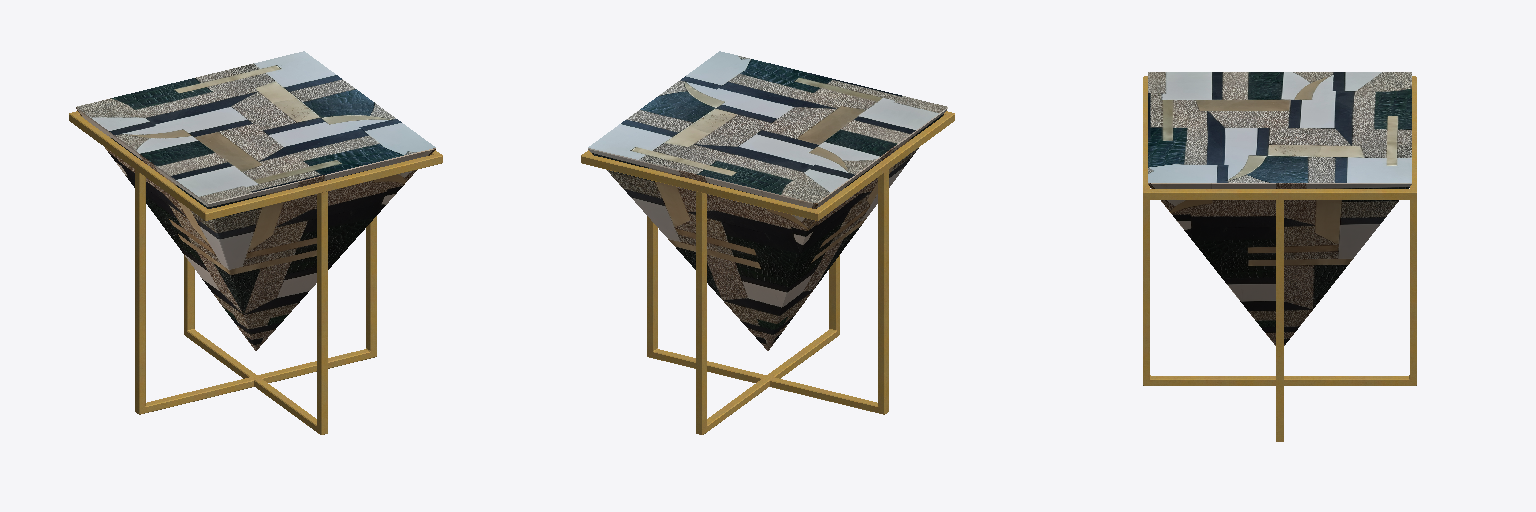
3 views of the same model, side by side, from view 1: azimuth 30°, elevation 25°; view 2: azimuth 150°, elevation 25°; view 3: azimuth 270°, elevation 25° (orthographic).
Visible parts, largest first — view 1: Pyramid_Leather_0006 Pyramid, Pyramid_Leather_0006 Pyramid_pipe_5, Pyramid_Leather_0006 Pyramid_pipe_4, Pyramid_pipe_1 Pyramid_Leather_0006; view 2: Pyramid_Leather_0006 Pyramid, Pyramid_Leather_0006 Pyramid_pipe_5, Pyramid_Leather_0006 Pyramid_pipe_4, Pyramid_pipe_1 Pyramid_Leather_0006; view 3: Pyramid_Leather_0006 Pyramid, Pyramid_Leather_0006 Pyramid_pipe_4, Pyramid_pipe_1 Pyramid_Leather_0006, Pyramid_Leather_0006 Pyramid_pipe_5.
Boxes of the visible parts, x1,y1,x2,y2 form: Pyramid_Leather_0006 Pyramid: [76, 51, 435, 350]; Pyramid_Leather_0006 Pyramid_pipe_5: [135, 170, 376, 414]; Pyramid_Leather_0006 Pyramid_pipe_4: [184, 191, 327, 434]; Pyramid_pipe_1 Pyramid_Leather_0006: [69, 111, 442, 220]; Pyramid_Leather_0006 Pyramid: [588, 51, 947, 350]; Pyramid_Leather_0006 Pyramid_pipe_5: [647, 170, 888, 414]; Pyramid_Leather_0006 Pyramid_pipe_4: [696, 191, 839, 434]; Pyramid_pipe_1 Pyramid_Leather_0006: [581, 111, 954, 220]; Pyramid_Leather_0006 Pyramid: [1148, 72, 1411, 345]; Pyramid_Leather_0006 Pyramid_pipe_4: [1143, 200, 1416, 385]; Pyramid_pipe_1 Pyramid_Leather_0006: [1143, 76, 1416, 199]; Pyramid_Leather_0006 Pyramid_pipe_5: [1276, 200, 1283, 441].
Size of the model in its own units: 40.7 by 42.03 by 40.7.
1 materials, 1 textured.